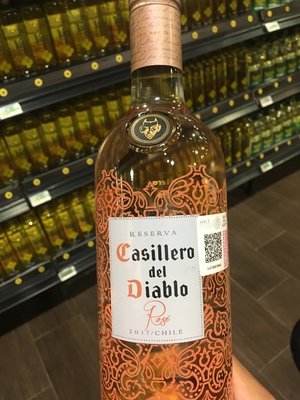casillero del diablo rose: (83, 22, 250, 400)
